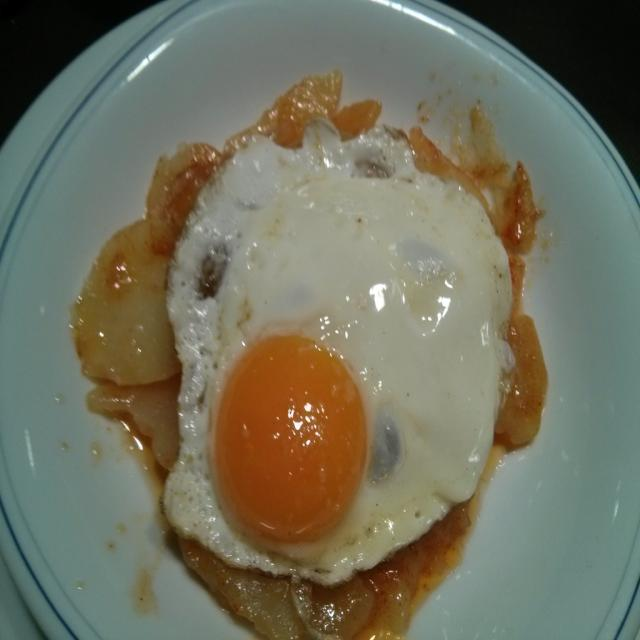Egg: (161, 114, 514, 586)
